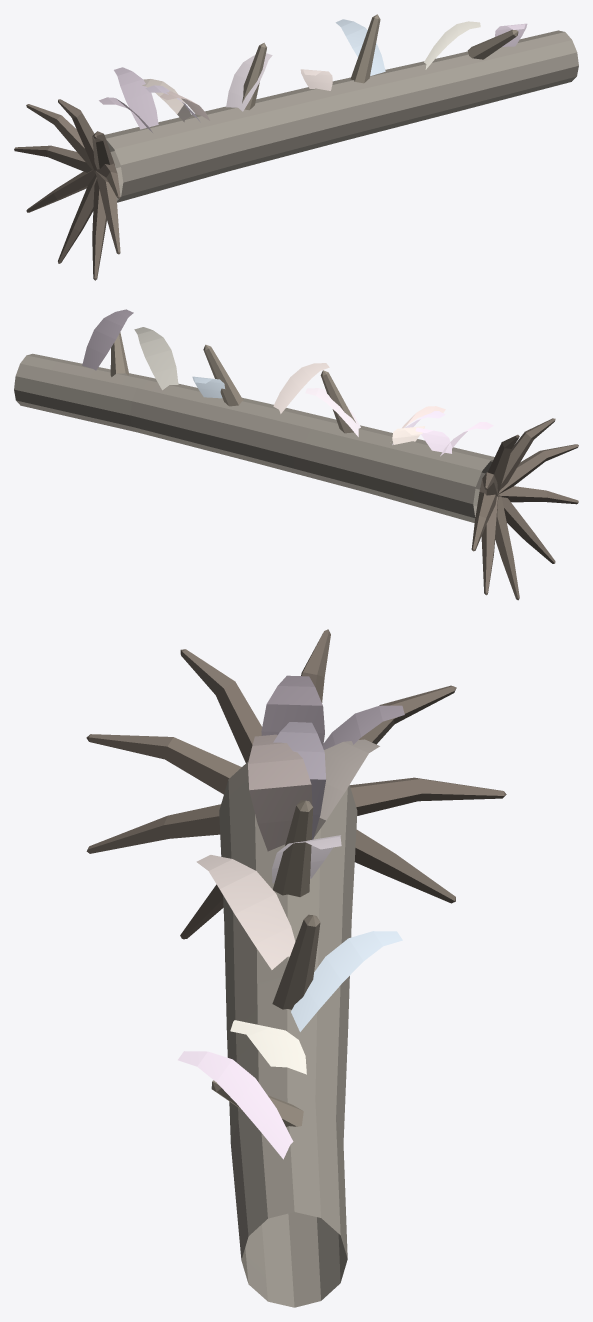
The model's file is log_2.glb.
3 renders of one model, top to bottom at view 1: azimuth 30°, elevation 25°; view 2: azimuth 150°, elevation 25°; view 3: azimuth 270°, elevation 25°, orthographic. The views are drawn at different scales.
Parts seen in each view (by area): view 1: log_2; view 2: log_2; view 3: log_2.
Boxes of the visible parts, x1,y1,x2,y2 form: log_2: (14, 14, 578, 280); log_2: (14, 309, 578, 600); log_2: (86, 629, 506, 1307).
Size of the model in its own units: 1.09 by 0.3666 by 0.3953.
